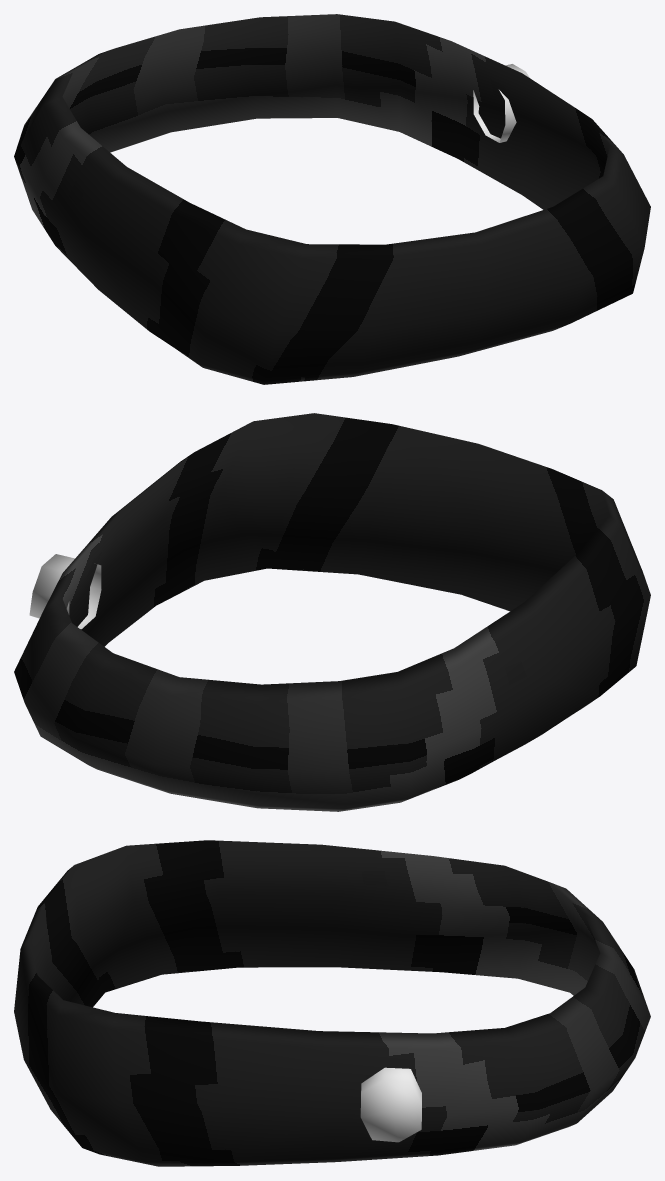
The model's file is collar.glb.
The picture shows the model from 3 angles, top to bottom: view 1: azimuth 30°, elevation 25°; view 2: azimuth 150°, elevation 25°; view 3: azimuth 270°, elevation 25°; orthographic projection. The views are drawn at different scales.
Visible parts, largest first — view 1: collar; view 2: collar; view 3: collar.
Part boxes in pixels (box(x1,y1,x2,y2)): collar: box(14, 14, 650, 384); collar: box(14, 413, 650, 811); collar: box(14, 840, 650, 1166).
Bounding box in the file's own units: 0.7395 × 0.2234 × 0.8903.
Materials: 2 (1 with a texture image).
